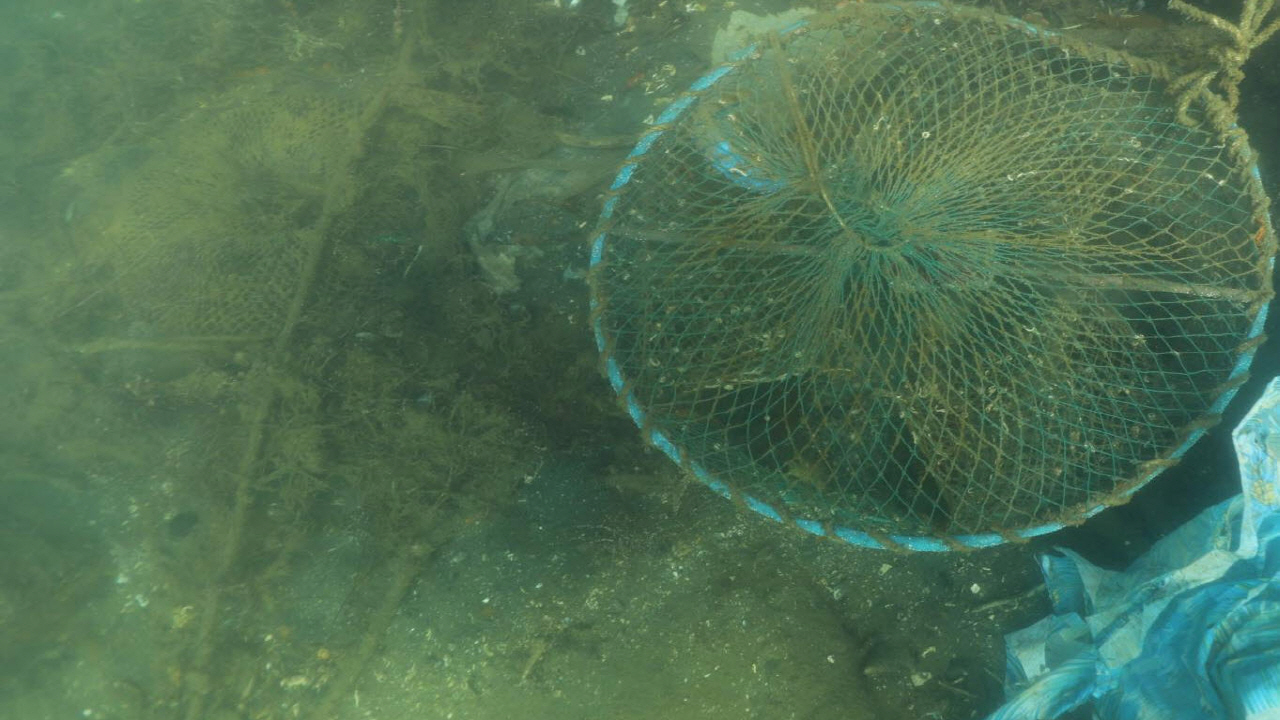circular fish trap: (588, 0, 1277, 555)
